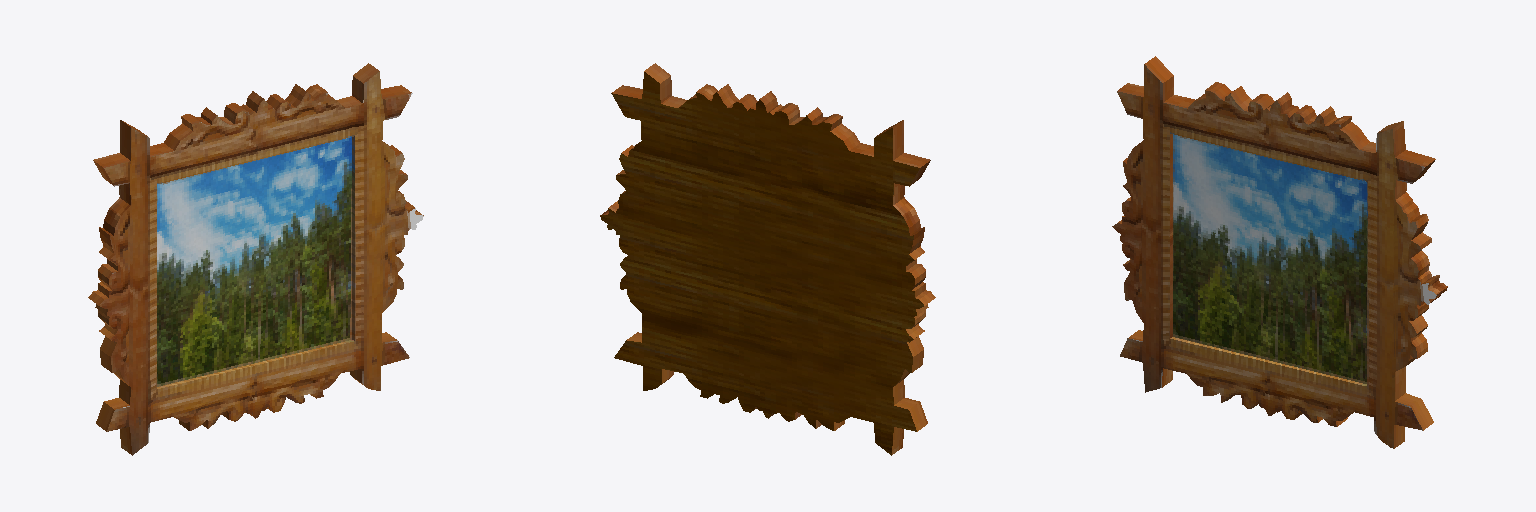
3 renders of one model, left to right at view 1: azimuth 30°, elevation 25°; view 2: azimuth 150°, elevation 25°; view 3: azimuth 330°, elevation 25°, orthographic.
Parts seen in each view (by area): view 1: wallpicture1; view 2: wallpicture1; view 3: wallpicture1.
Boxes of the visible parts, x1,y1,x2,y2 form: wallpicture1: [88, 63, 423, 455]; wallpicture1: [600, 63, 935, 455]; wallpicture1: [1112, 56, 1447, 448].
Bounding box in the file's own units: 1.02 × 0.9899 × 0.0608.
1 materials, 1 textured.